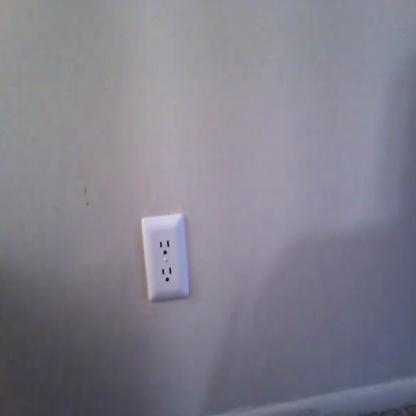OUTLET: (141, 216, 191, 300)
